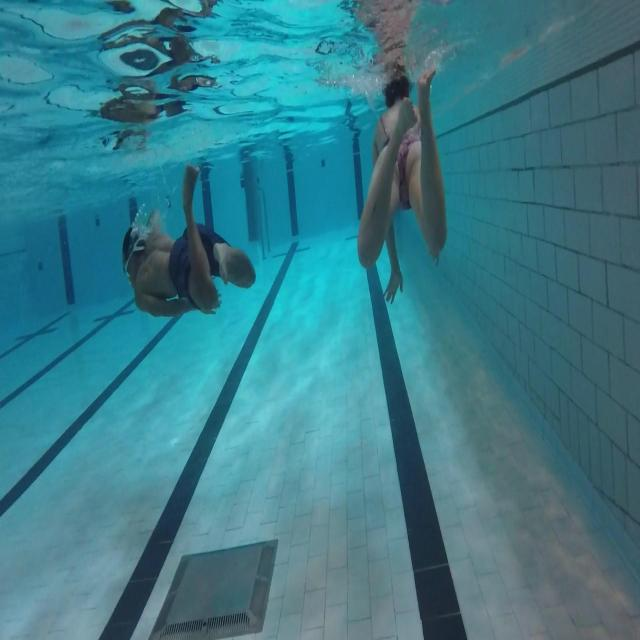human: (357, 67, 447, 305), (121, 162, 256, 318)
